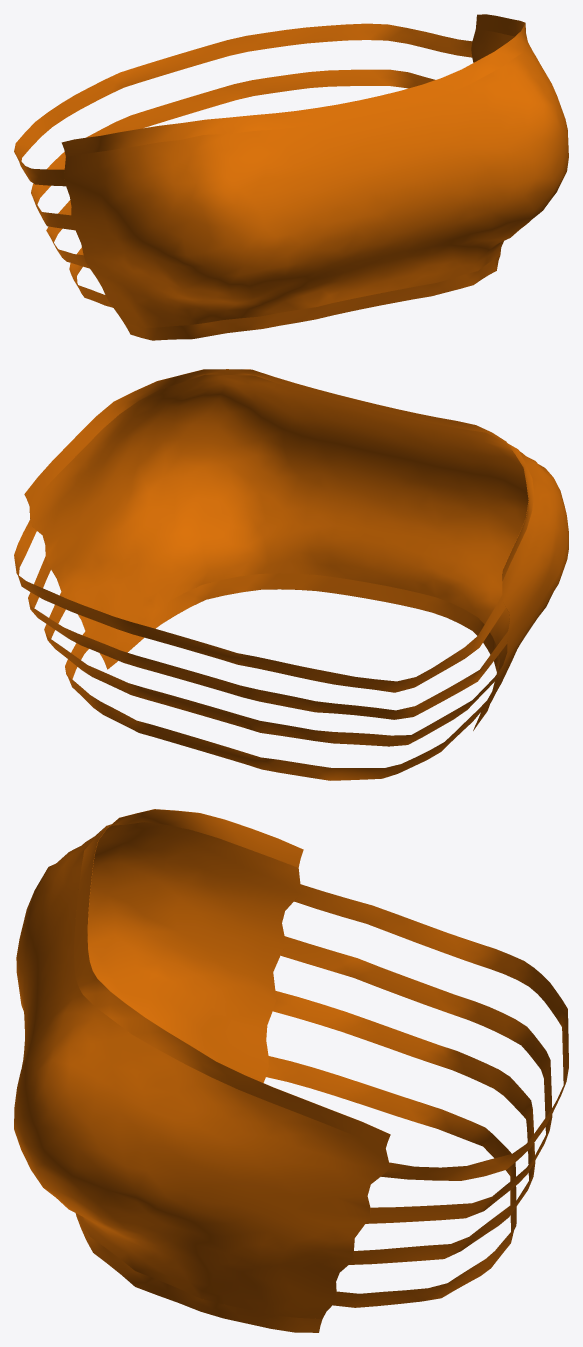
The model's file is topfem1.glb.
3 renders of one model, top to bottom at view 1: azimuth 30°, elevation 25°; view 2: azimuth 150°, elevation 25°; view 3: azimuth 270°, elevation 25°, orthographic. The views are drawn at different scales.
Visible parts, largest first — view 1: hash_D067EE79.model; view 2: hash_D067EE79.model; view 3: hash_D067EE79.model.
Boxes of the visible parts, x1,y1,x2,y2 form: hash_D067EE79.model: [14, 14, 568, 340]; hash_D067EE79.model: [14, 369, 568, 780]; hash_D067EE79.model: [14, 809, 568, 1332].
Size of the model in its own units: 0.3156 by 0.1692 by 0.2671.
